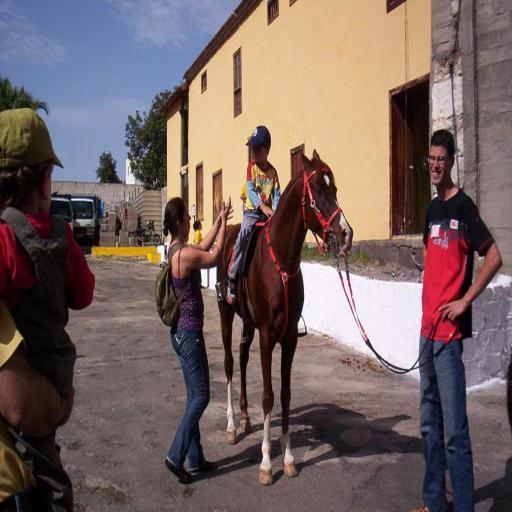horse: (214, 146, 354, 489)
